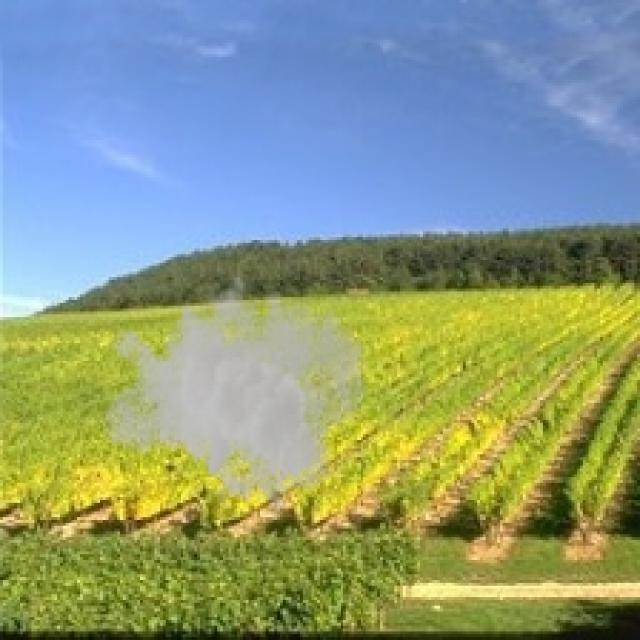Smoke: (100, 259, 369, 512)
